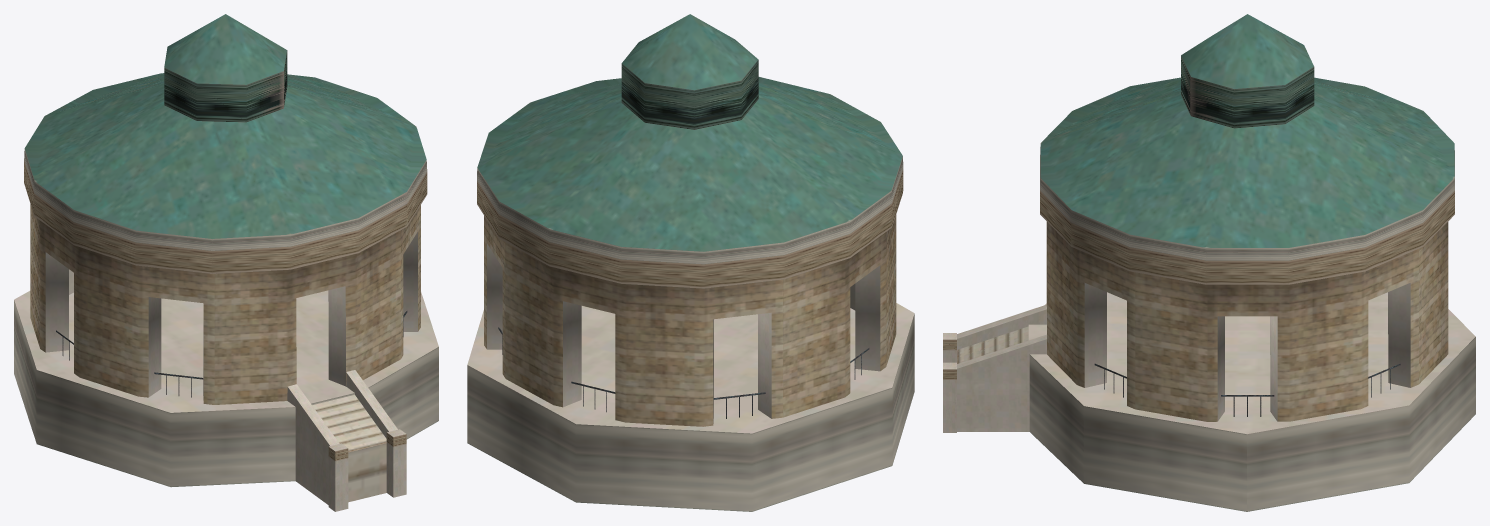
File: thm_nboo_thed_imprv_building_s09_l2.fbx
The picture shows the model from 3 angles, left to right: view 1: azimuth 30°, elevation 25°; view 2: azimuth 150°, elevation 25°; view 3: azimuth 270°, elevation 25°; orthographic projection. The views are drawn at different scales.
Visible parts, largest first — view 1: mesh_node; view 2: mesh_node; view 3: mesh_node.
Part boxes in pixels (x1,y1,x2,y2): mesh_node: (14,14,438,511); mesh_node: (467,14,914,511); mesh_node: (943,14,1475,511).
Size of the model in its own units: 17.23 by 16.57 by 19.96.
Materials: 1 (1 with a texture image).
